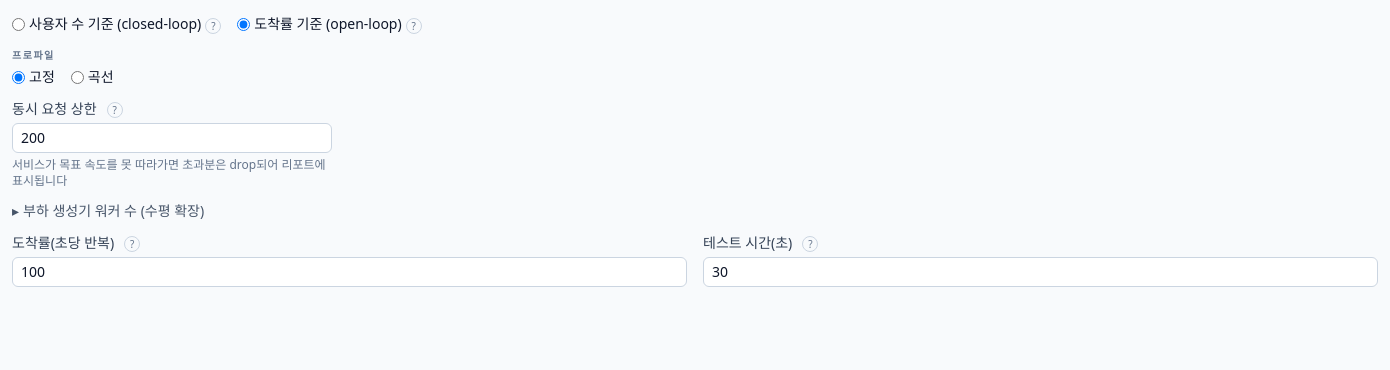
Test: LoadModelFields › open+fixed + setWorkerCount 주어지면 토글 렌더 + 펼치면 입력 등장
The width and height of the screenshot is (1390, 370).
What coordinates should you click on to do the following:
click the button "▸ 부하 생성기 워커 수 (수평 확장)"
I would click on:
 (108, 211)
Its box is [12,201,204,221].
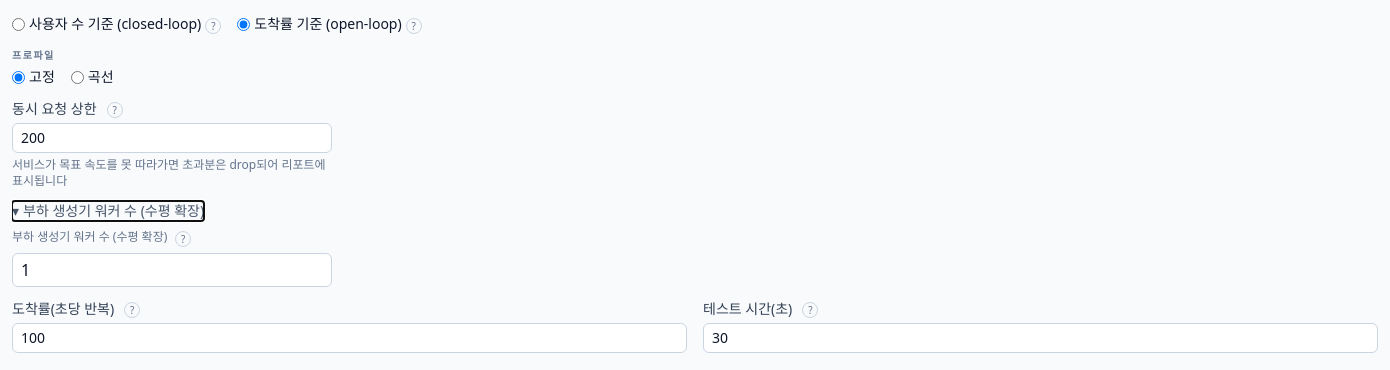
Expected: the number field named "부하 생성기 워커 수 (수평 확장)" is shown, [12,253,332,287]
